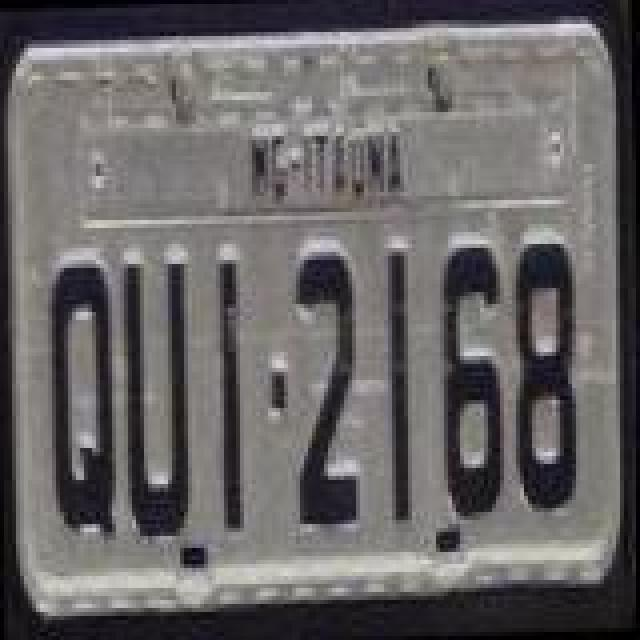1: (386, 242, 418, 526), (214, 256, 246, 536)
2: (290, 248, 362, 536)
6: (438, 242, 510, 526)
8: (512, 238, 588, 514)
Q: (48, 258, 124, 542)
U: (120, 256, 196, 544)
